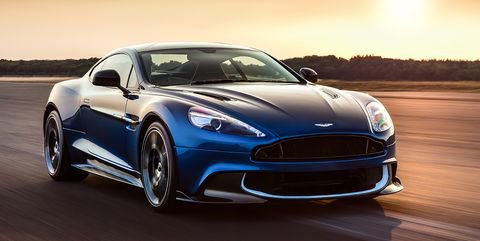car: (45, 39, 402, 201)
